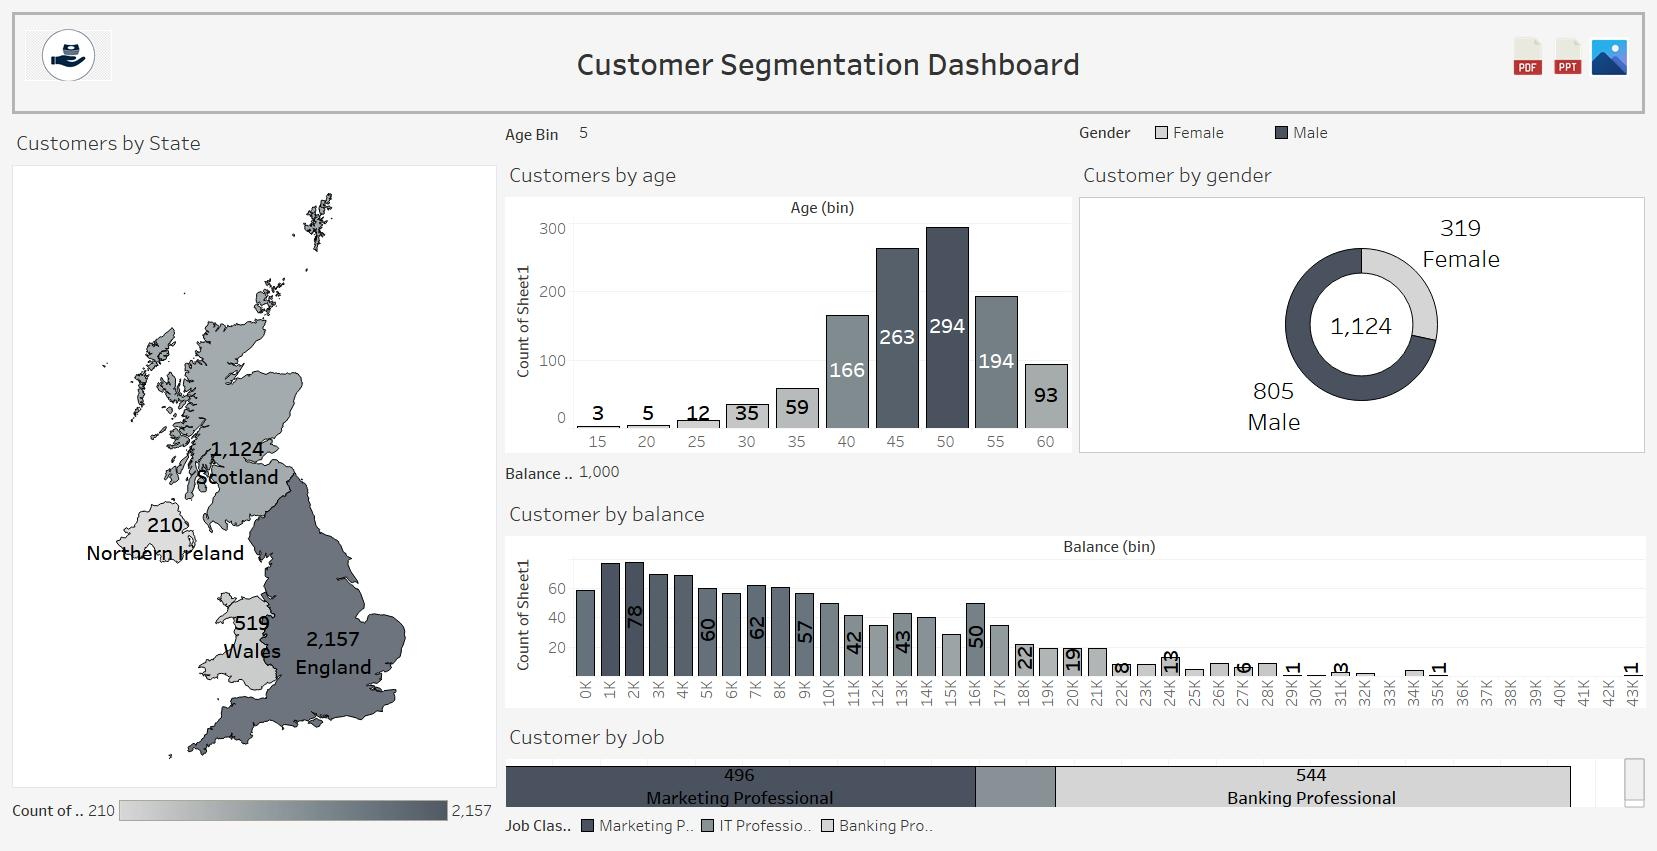

The page's visual inventory and layout, read from the dashboard file:
{"tool":"tableau","page":{"name":"Dashboard 1","canvas":[1000,1000],"units":"permille","ordinal":0},"visuals":[{"type":"title","box":[4.8,9.4,990.3,129.3]},{"type":"dashboard-object","box":[94.2,17.6,14.5,28.2]},{"type":"image","param":"C:/Users/abhis/Downloads/Pics/png-transparent-currency-symbol-bank-graphy-vietna","box":[14.5,21.2,53.1,88.1]},{"type":"dashboard-object","box":[933.6,31.7,24.7,67]},{"type":"dashboard-object","box":[908.9,32.9,25.9,64.6]},{"type":"dashboard-object","box":[959,32.9,24.1,68.2]},{"type":"worksheet","title":"No of customers by state","mark":"Automatic","box":[4.8,138.7,297.4,792.6]},{"type":"parameter","param":"[Parameters].[Parameter 1]","box":[302.3,138.7,346.4,37.2]},{"type":"legend","title":"customer by gender","param":"[federated.0leac650xvue991een6r308927fz].[none:Gender:nk]","box":[648.7,138.7,346.5,37.2]},{"type":"worksheet","title":"customers by age","mark":"Automatic","rows":["Sheet1_DEBD9ADC939B495098DFB11C14EA35FC"],"cols":["Age (bin)"],"box":[302.3,175.8,346.4,360.7]},{"type":"worksheet","title":"customer by gender","mark":"Pie","rows":["Calculation_761389872282869762","Calculation_761389872282869762"],"box":[648.7,175.8,346.5,360.7]},{"type":"parameter","param":"[Parameters].[Parameter 2]","box":[302.3,536.5,692.9,37.7]},{"type":"worksheet","title":"customer by balance","mark":"Automatic","rows":["Sheet1_DEBD9ADC939B495098DFB11C14EA35FC"],"cols":["Balance (bin)"],"box":[302.3,574.2,692.9,262]},{"type":"worksheet","title":"customers by job","mark":"Automatic","cols":["Sheet1_DEBD9ADC939B495098DFB11C14EA35FC"],"box":[302.3,836.2,692.9,116.5]},{"type":"legend","title":"No of customers by state","param":"[federated.0leac650xvue991een6r308927fz].[__tableau_internal_object_id__].[cnt:S","box":[4.8,931.2,297.4,59.4]},{"type":"legend","title":"customers by job","param":"[federated.0leac650xvue991een6r308927fz].[none:Job Classification:nk]","box":[302.3,952.7,692.9,37.9]}]}

Visuals, with their boxes on the dashboard's canvas, which has no fixed pixel size, in thousandths of its width and height (x1, y1, x2, y2). These are canvas units, not pixel positions in the 1657x851 screenshot, which may show the page scaled, cropped or inside an application window:
title: bbox=[5, 9, 995, 139]
dashboard-object: bbox=[94, 18, 109, 46]
image: bbox=[14, 21, 68, 109]
dashboard-object: bbox=[934, 32, 958, 99]
dashboard-object: bbox=[909, 33, 935, 98]
dashboard-object: bbox=[959, 33, 983, 101]
"No of customers by state" worksheet: bbox=[5, 139, 302, 931]
parameter: bbox=[302, 139, 649, 176]
"customer by gender" legend: bbox=[649, 139, 995, 176]
"customers by age" worksheet: bbox=[302, 176, 649, 536]
"customer by gender" worksheet (Pie marks): bbox=[649, 176, 995, 536]
parameter: bbox=[302, 536, 995, 574]
"customer by balance" worksheet: bbox=[302, 574, 995, 836]
"customers by job" worksheet: bbox=[302, 836, 995, 953]
"No of customers by state" legend: bbox=[5, 931, 302, 991]
"customers by job" legend: bbox=[302, 953, 995, 991]
